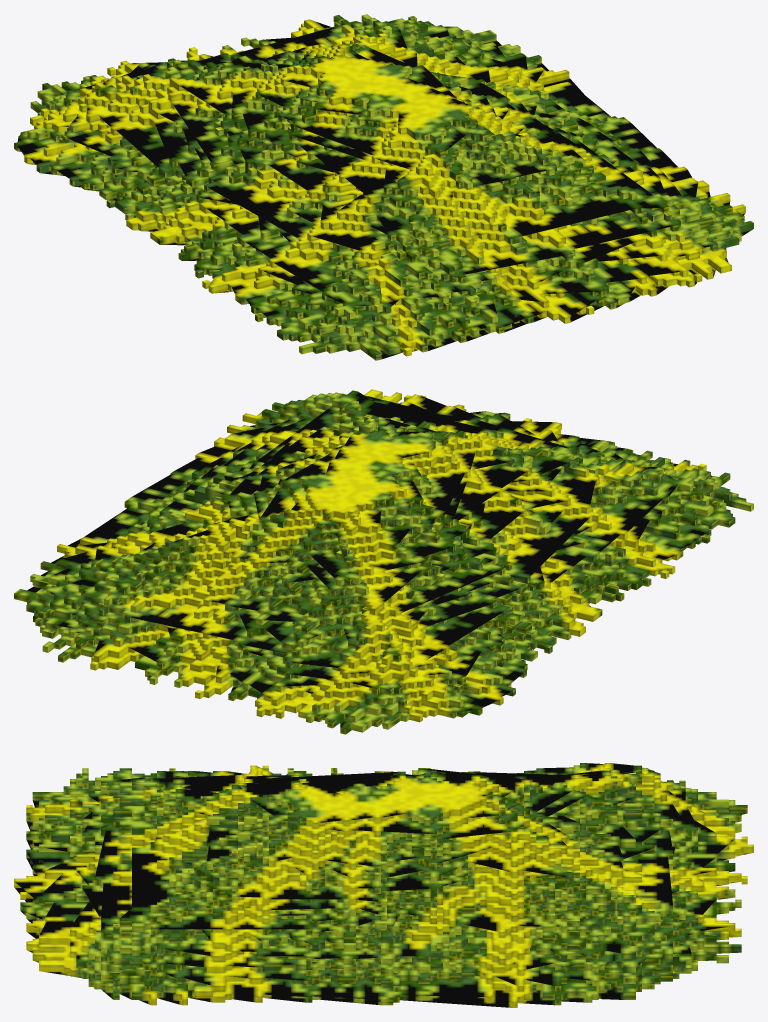
Rendered from Detritos.fbx.
3 views of the same model, one above another, from view 1: azimuth 30°, elevation 25°; view 2: azimuth 150°, elevation 25°; view 3: azimuth 270°, elevation 25° (orthographic).
Parts seen in each view (by area): view 1: detritos; view 2: detritos; view 3: detritos.
Boxes of the visible parts, x1,y1,x2,y2 form: detritos: (14, 14, 753, 360); detritos: (14, 389, 753, 734); detritos: (14, 763, 753, 1007).
Size of the model in its own units: 910 by 160 by 1190.
1 material, 1 textured.
